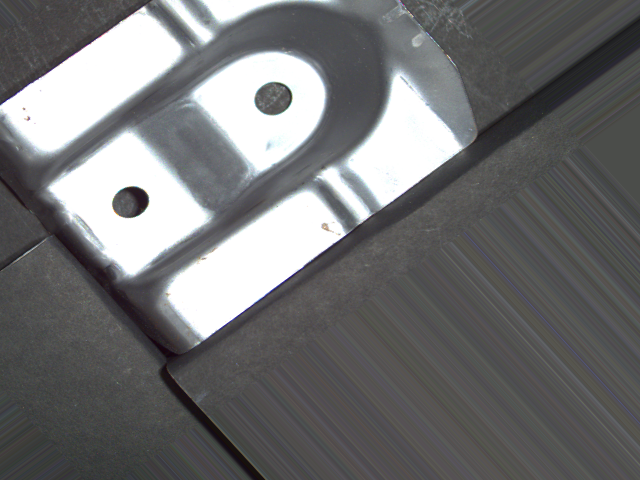defect: (250, 77, 304, 118)
